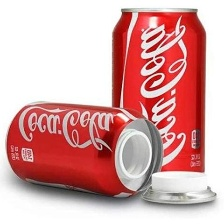can: (107, 4, 209, 181), (5, 98, 163, 199)
